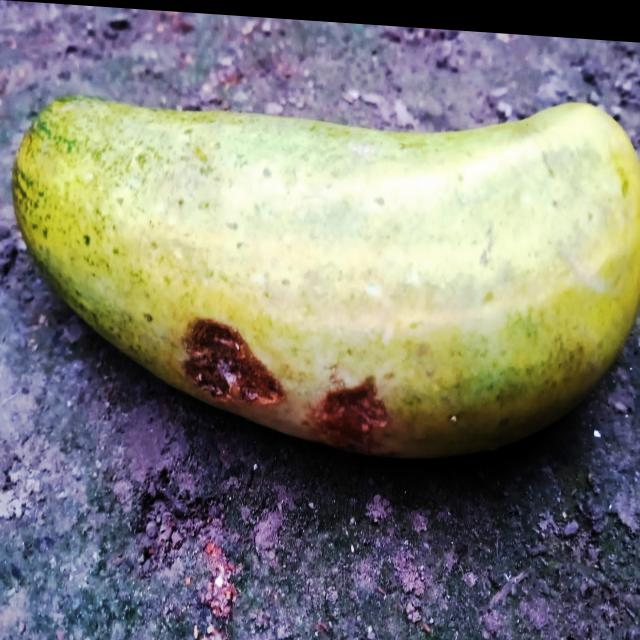Belly-Rot: (178, 308, 290, 412), (300, 359, 394, 452)
